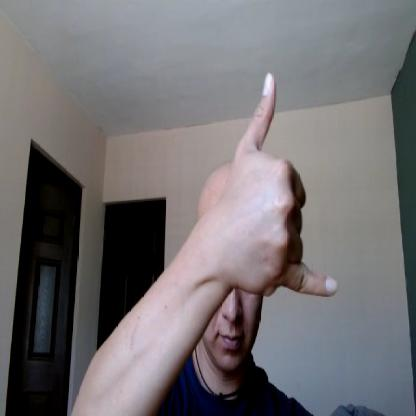Y: (219, 71, 338, 299)
